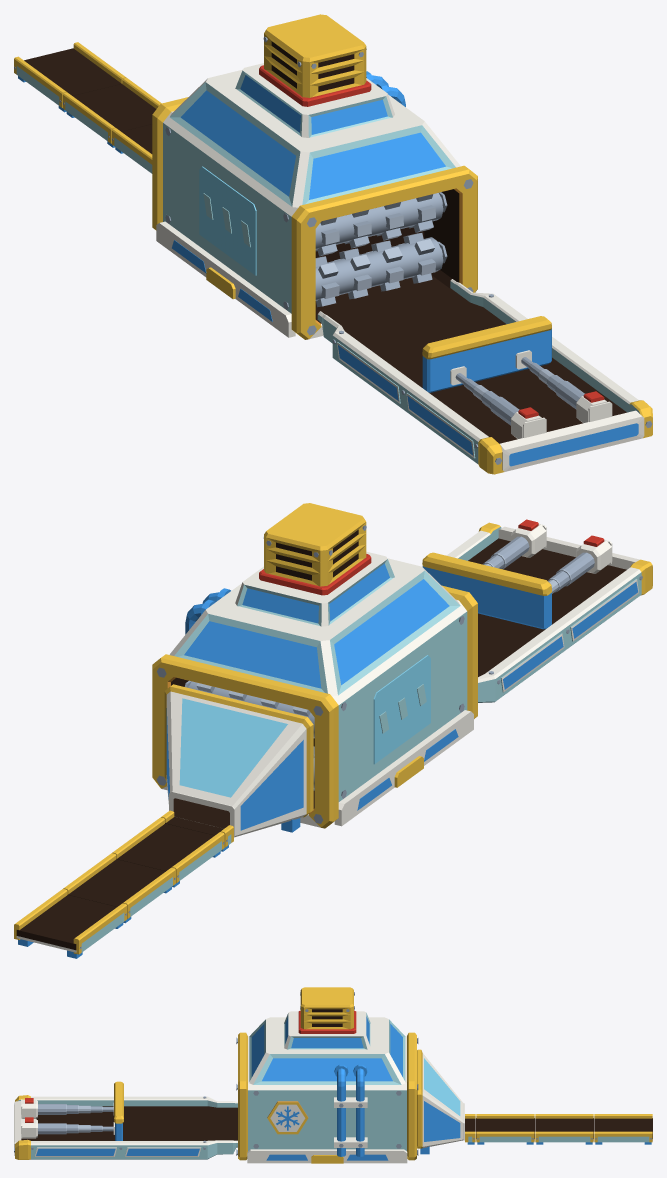
Rendered from ClassicConveyorWithProcessor.glb.
The picture shows the model from 3 angles, top to bottom: view 1: azimuth 30°, elevation 25°; view 2: azimuth 150°, elevation 25°; view 3: azimuth 270°, elevation 25°; orthographic projection. The views are drawn at different scales.
Parts seen in each view (by area): view 1: ProcessorTower, FeederFrame, Pusher, Front_Lower, Front_Upper, Run03, Run02, Run01; view 2: ProcessorTower, TowerAdapter, FeederFrame, Pusher, Run03, Run01, Run02, Rear_Upper; view 3: ProcessorTower, FeederFrame, TowerAdapter, Run01, Run02, Run03, Pusher.
Boxes of the visible parts, x1,y1,x2,y2 form: ProcessorTower: [152, 14, 477, 339]; FeederFrame: [317, 279, 652, 474]; Pusher: [422, 316, 551, 392]; Front_Lower: [315, 233, 443, 307]; Front_Upper: [315, 193, 443, 256]; Run03: [14, 42, 126, 112]; Run02: [62, 78, 161, 147]; Run01: [111, 124, 152, 173]; ProcessorTower: [152, 503, 477, 828]; TowerAdapter: [161, 684, 313, 851]; FeederFrame: [447, 519, 652, 702]; Pusher: [422, 552, 551, 629]; Run03: [14, 889, 126, 958]; Run01: [112, 817, 224, 887]; Run02: [63, 853, 175, 923]; Rear_Upper: [188, 681, 314, 738]; ProcessorTower: [236, 987, 418, 1163]; FeederFrame: [14, 1095, 237, 1159]; TowerAdapter: [417, 1049, 475, 1154]; Run01: [476, 1114, 534, 1144]; Run02: [535, 1114, 593, 1144]; Run03: [594, 1114, 652, 1144]; Pusher: [102, 1081, 123, 1140].
Bounding box in the file's own units: 2.67 × 2.93 × 12.12.
Materials: 3 (3 with a texture image).
